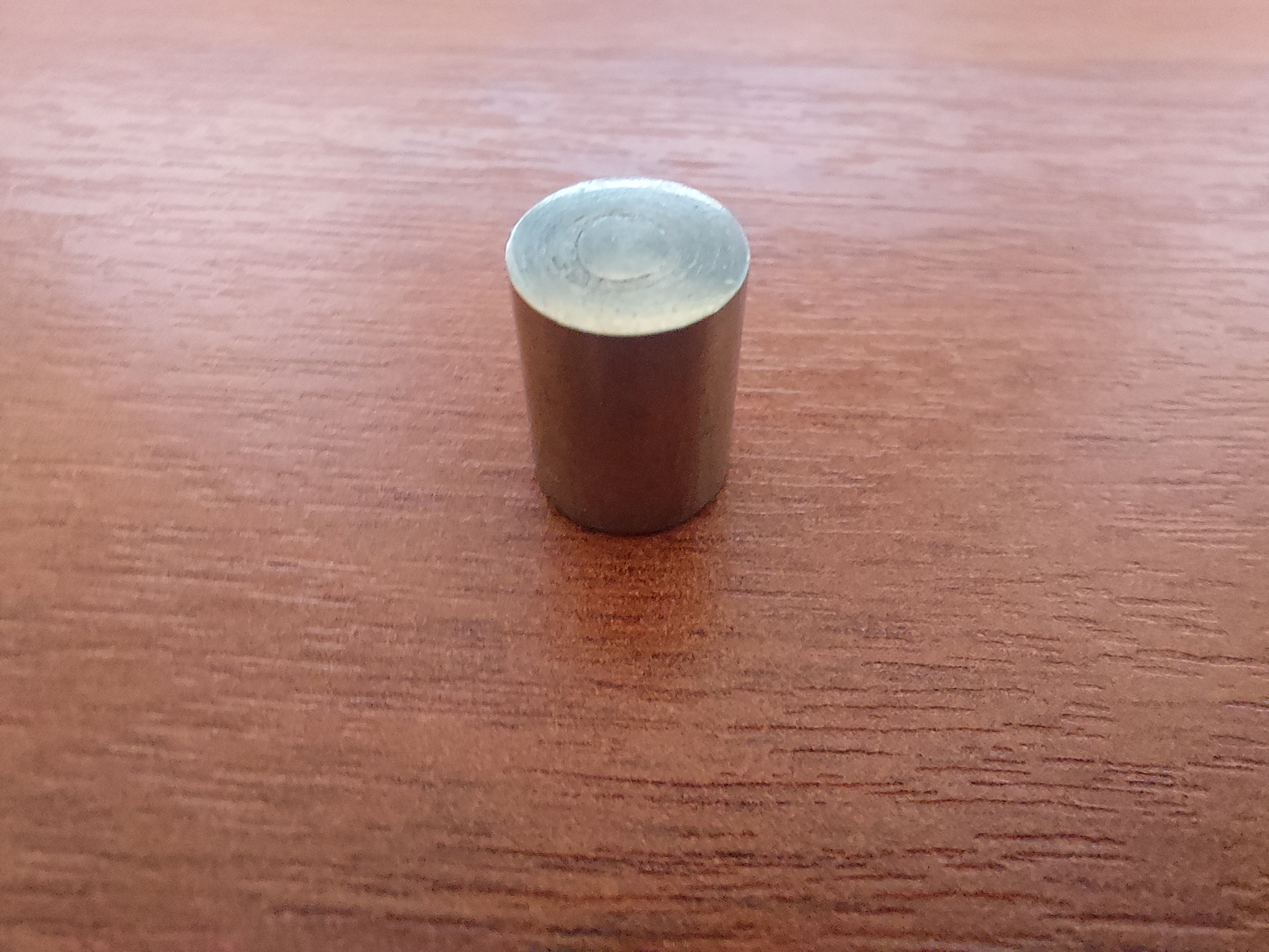tablet: (483, 185, 770, 554)
